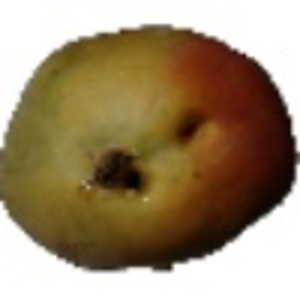mamão: (3, 18, 297, 275)
